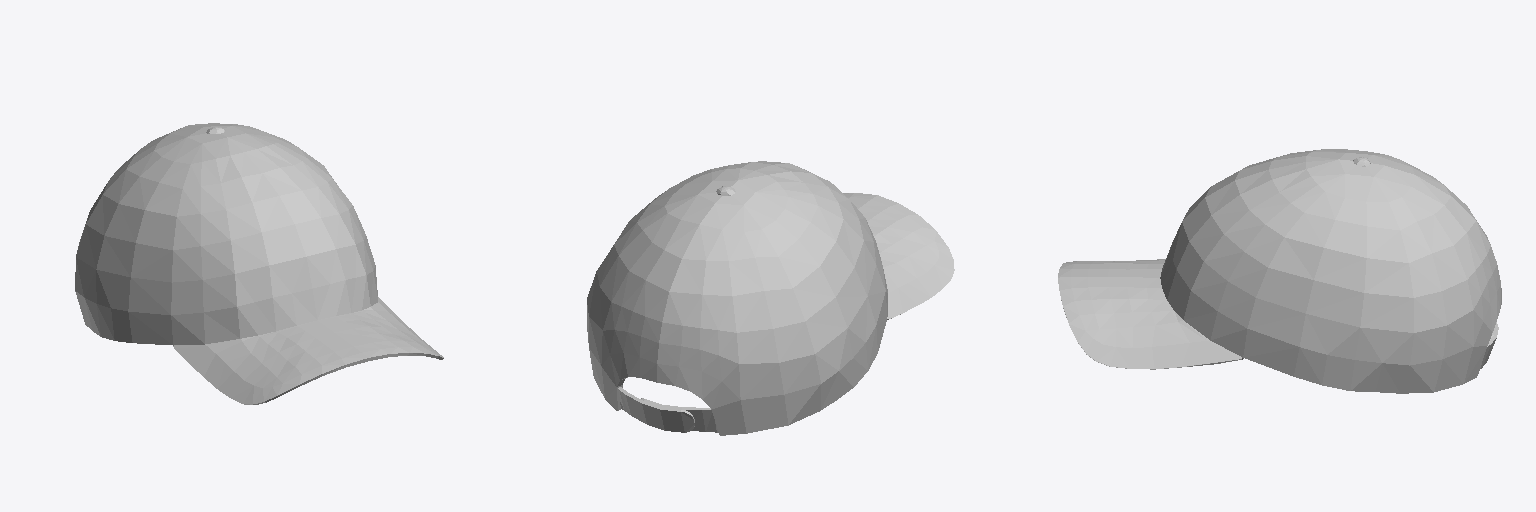
The model's file is BaseballHat.obj.
3 renders of one model, left to right at view 1: azimuth 30°, elevation 25°; view 2: azimuth 150°, elevation 25°; view 3: azimuth 270°, elevation 25°, orthographic.
Bounding box in the file's own units: 16.56 × 12.69 × 26.09.